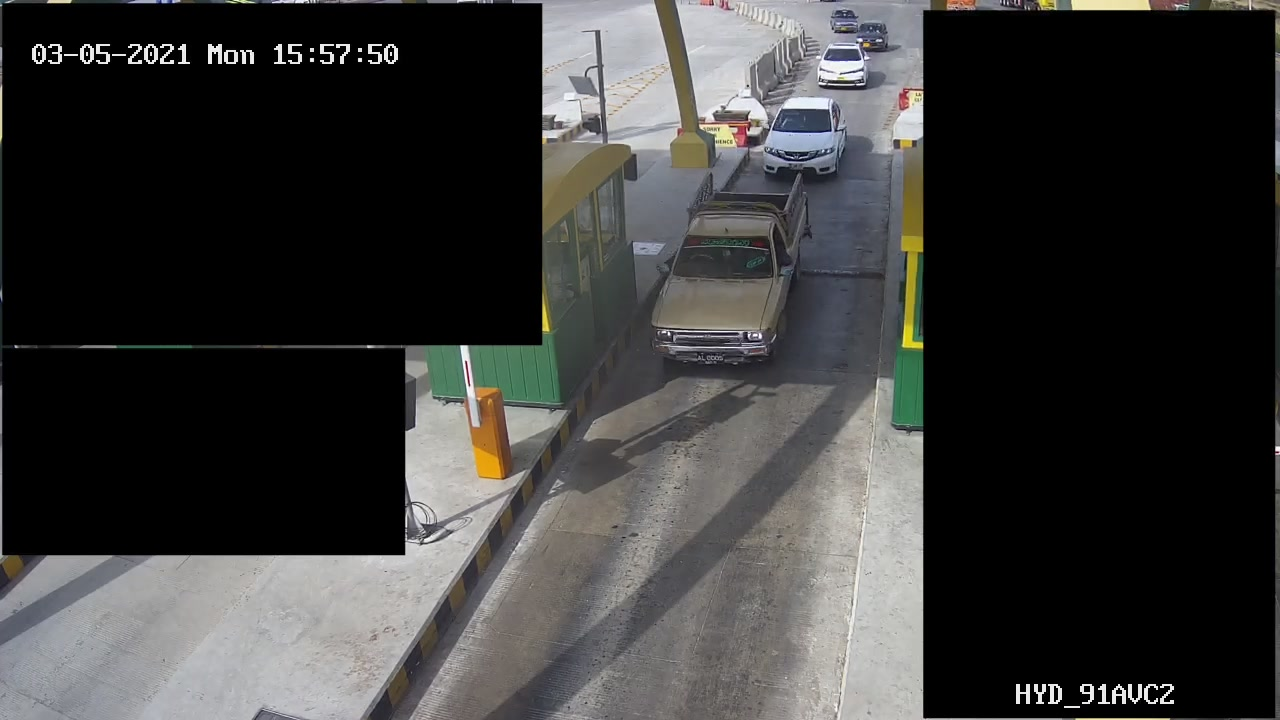F1: (639, 172, 811, 380)
